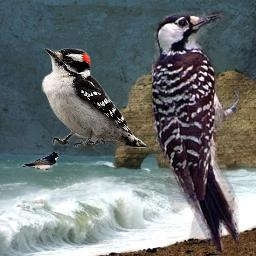Swallow: (22, 152, 59, 172)
Woodpecker: (152, 10, 239, 254), (41, 48, 146, 148)
